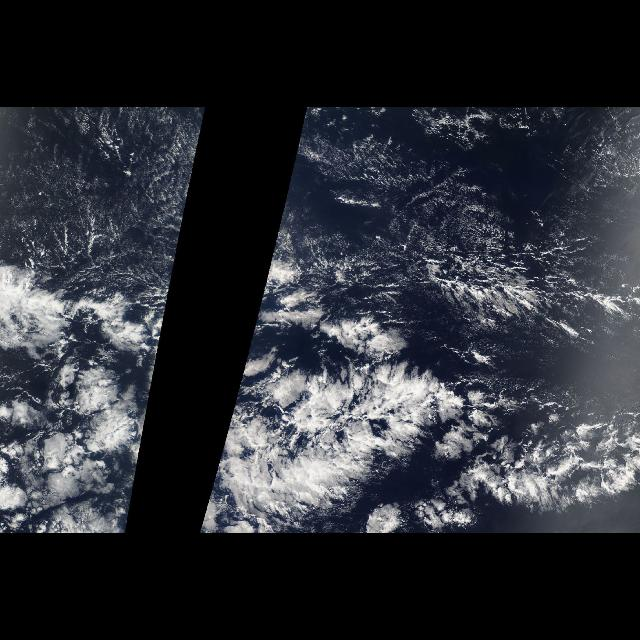Sugar: (268, 107, 640, 275), (1, 107, 208, 281)
